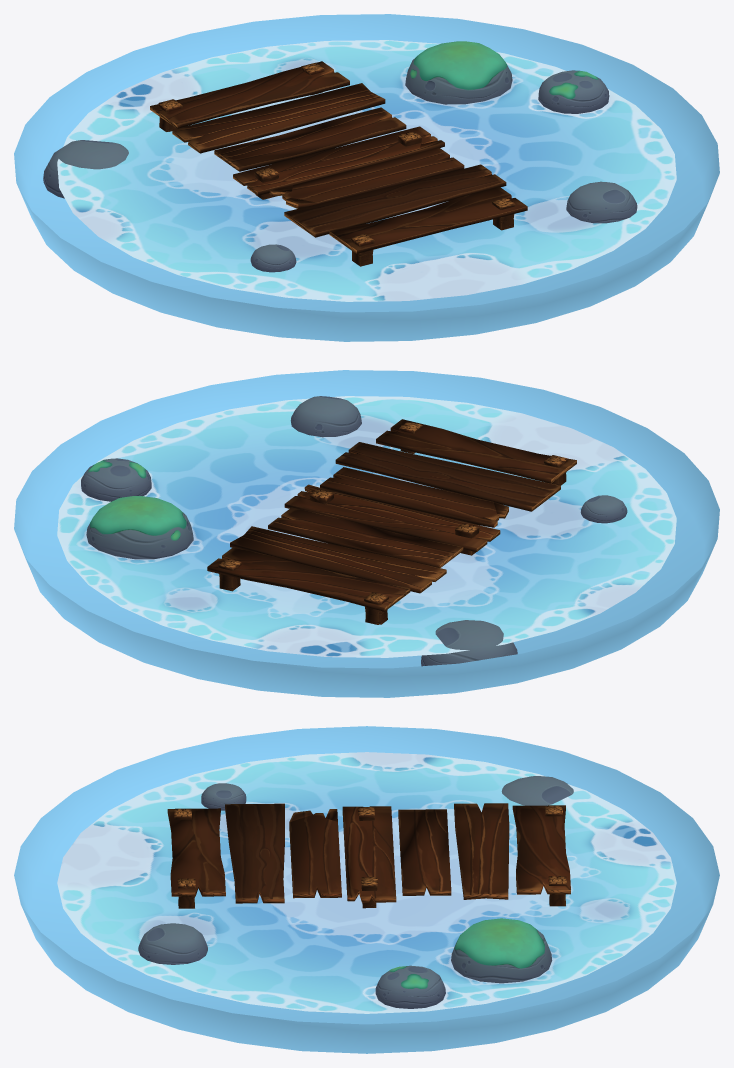
File: ruins of the monastery_noLicense.glb
The picture shows the model from 3 angles, top to bottom: view 1: azimuth 30°, elevation 25°; view 2: azimuth 150°, elevation 25°; view 3: azimuth 270°, elevation 25°; orthographic projection.
Parts seen in each view (by area): view 1: water, bridge, Rock_1_low.002_Rocks_0, Rock_2_low.001_Rocks_0, Rock_3_low.001_Rocks_0, Rock_3_low.003_Rocks_0, Rock_3_low.004_Rocks_0; view 2: water, bridge, Rock_1_low.002_Rocks_0, Rock_3_low.003_Rocks_0, Rock_2_low.001_Rocks_0, Rock_3_low.001_Rocks_0, Rock_3_low.004_Rocks_0; view 3: water, bridge, Rock_1_low.002_Rocks_0, Rock_2_low.001_Rocks_0, Rock_3_low.001_Rocks_0, Rock_3_low.003_Rocks_0, Rock_3_low.004_Rocks_0.
Boxes of the visible parts, bbox=[...] form: water: bbox=[14, 14, 719, 341]; bridge: bbox=[150, 61, 527, 266]; Rock_1_low.002_Rocks_0: bbox=[405, 41, 512, 104]; Rock_2_low.001_Rocks_0: bbox=[538, 70, 609, 113]; Rock_3_low.001_Rocks_0: bbox=[566, 181, 637, 223]; Rock_3_low.003_Rocks_0: bbox=[43, 140, 128, 198]; Rock_3_low.004_Rocks_0: bbox=[250, 244, 296, 272]; water: bbox=[14, 370, 719, 697]; bridge: bbox=[207, 419, 576, 624]; Rock_1_low.002_Rocks_0: bbox=[86, 496, 193, 559]; Rock_3_low.003_Rocks_0: bbox=[421, 620, 517, 666]; Rock_2_low.001_Rocks_0: bbox=[81, 458, 151, 501]; Rock_3_low.001_Rocks_0: bbox=[290, 396, 361, 437]; Rock_3_low.004_Rocks_0: bbox=[580, 495, 627, 523]; water: bbox=[14, 726, 719, 1053]; bridge: bbox=[167, 803, 570, 908]; Rock_1_low.002_Rocks_0: bbox=[451, 918, 552, 983]; Rock_2_low.001_Rocks_0: bbox=[375, 965, 445, 1008]; Rock_3_low.001_Rocks_0: bbox=[138, 923, 207, 964]; Rock_3_low.003_Rocks_0: bbox=[501, 776, 573, 805]; Rock_3_low.004_Rocks_0: bbox=[201, 783, 246, 810].
Bounding box in the file's own units: 10.13 × 0.9858 × 10.13.
3 materials, 3 textured.
